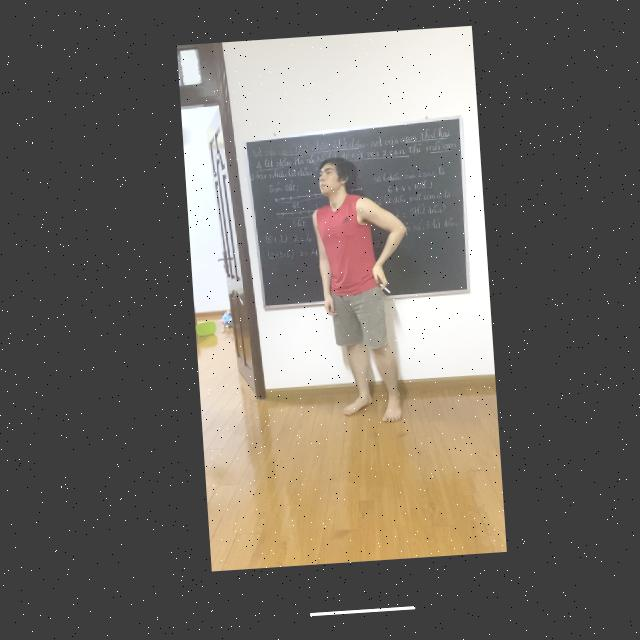cigarette: (375, 289, 386, 299)
